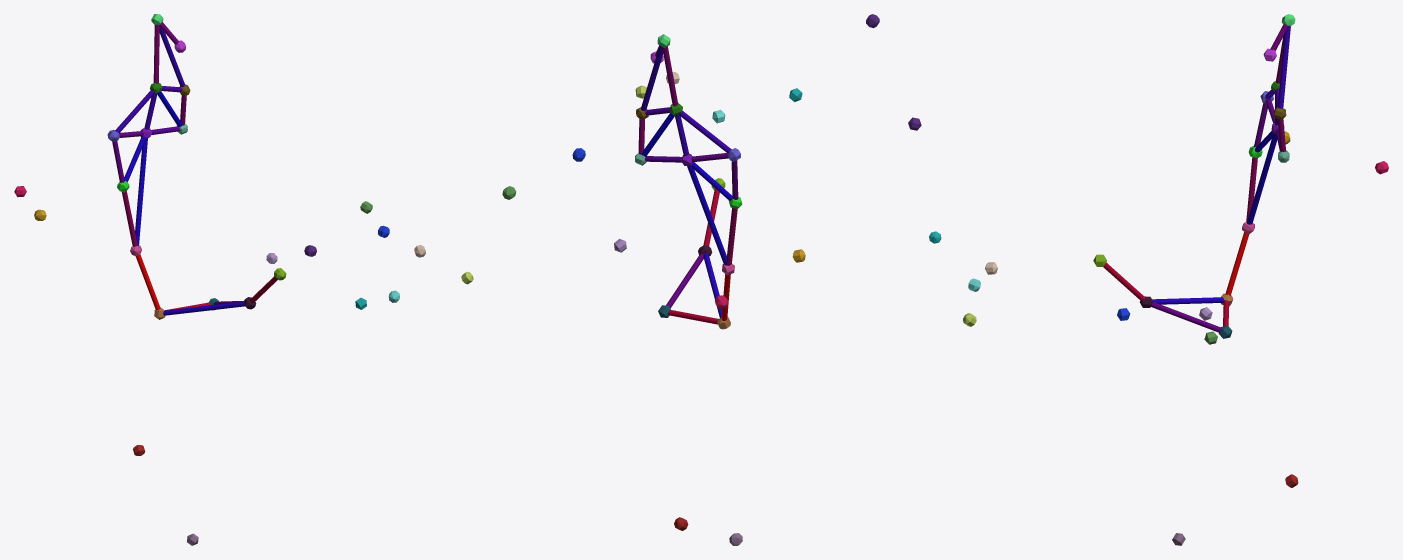
File: fg-00050-skel.obj
3 renders of one model, left to right at view 1: azimuth 30°, elevation 25°; view 2: azimuth 150°, elevation 25°; view 3: azimuth 270°, elevation 25°, orthographic. The views are drawn at different scales.
Size of the model in its own units: 0.2707 by 0.419 by 0.3386.
